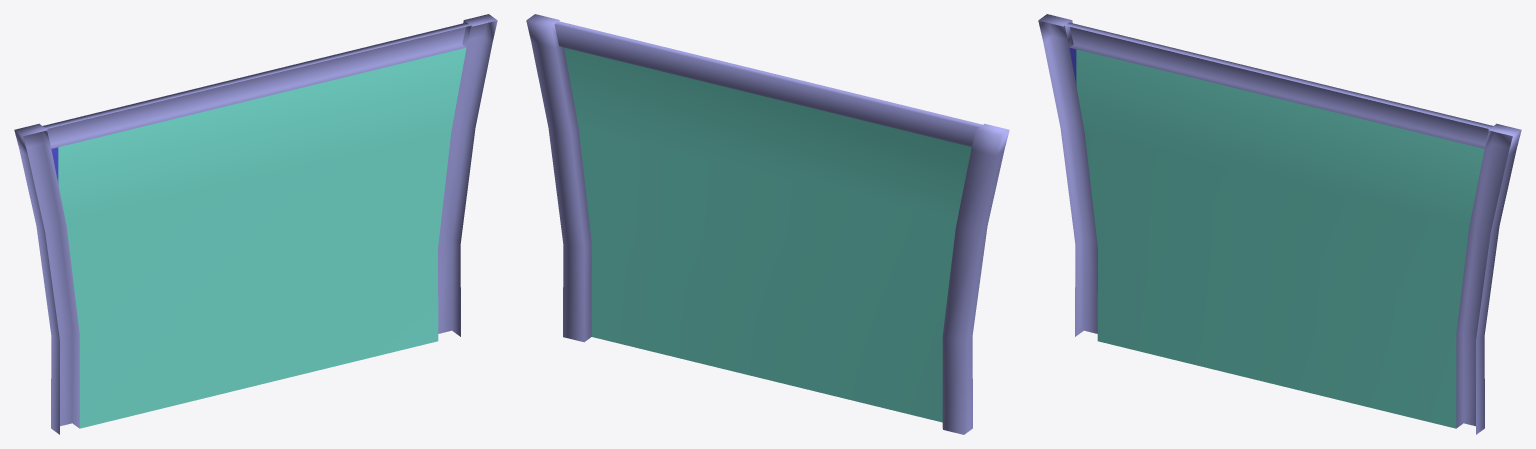
File: Building_A_8.fbx
3 views of the same model, side by side, from view 1: azimuth 30°, elevation 25°; view 2: azimuth 150°, elevation 25°; view 3: azimuth 330°, elevation 25° (orthographic).
Visible parts, largest first — view 1: Building_A_8; view 2: Building_A_8; view 3: Building_A_8.
Part boxes in pixels (box(x1,y1,x2,y2)): Building_A_8: box(14, 14, 497, 434); Building_A_8: box(526, 14, 1009, 434); Building_A_8: box(1038, 14, 1521, 434).
Bounding box in the file's own units: 322 × 199 × 10.4.
